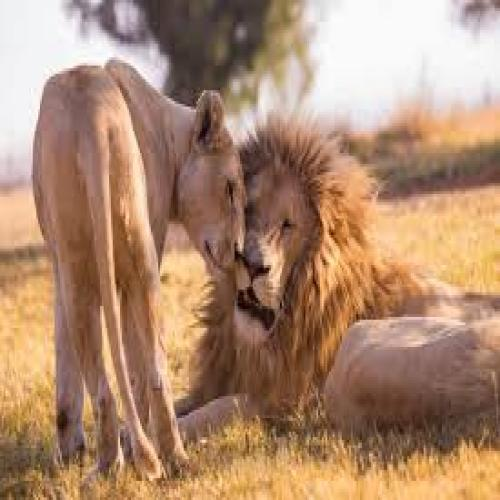lion-endangered: (170, 115, 496, 452), (29, 53, 248, 479)
